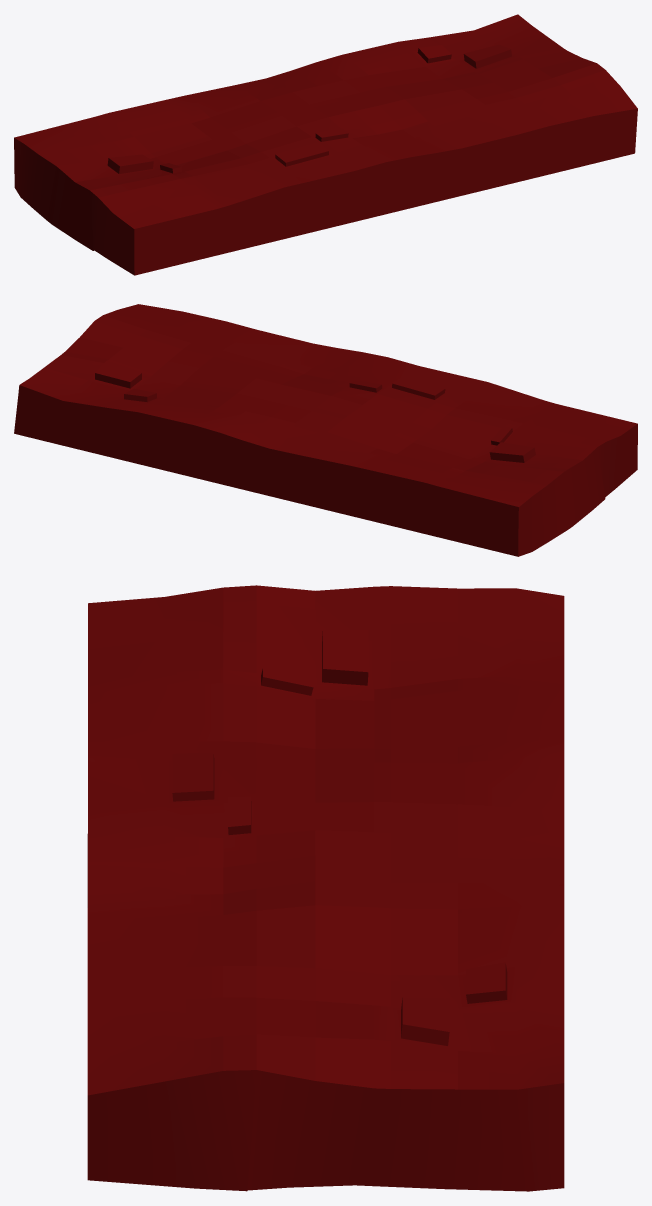
The model's file is tile lava.fbx.
3 views of the same model, one above another, from view 1: azimuth 30°, elevation 25°; view 2: azimuth 150°, elevation 25°; view 3: azimuth 270°, elevation 25° (orthographic). The views are drawn at different scales.
Parts seen in each view (by area): view 1: pPlane1; view 2: pPlane1; view 3: pPlane1.
Boxes of the visible parts, x1,y1,x2,y2 form: pPlane1: [14, 14, 637, 275]; pPlane1: [14, 304, 637, 556]; pPlane1: [87, 585, 564, 1191].
Size of the model in its own units: 5101 by 559 by 2050.
